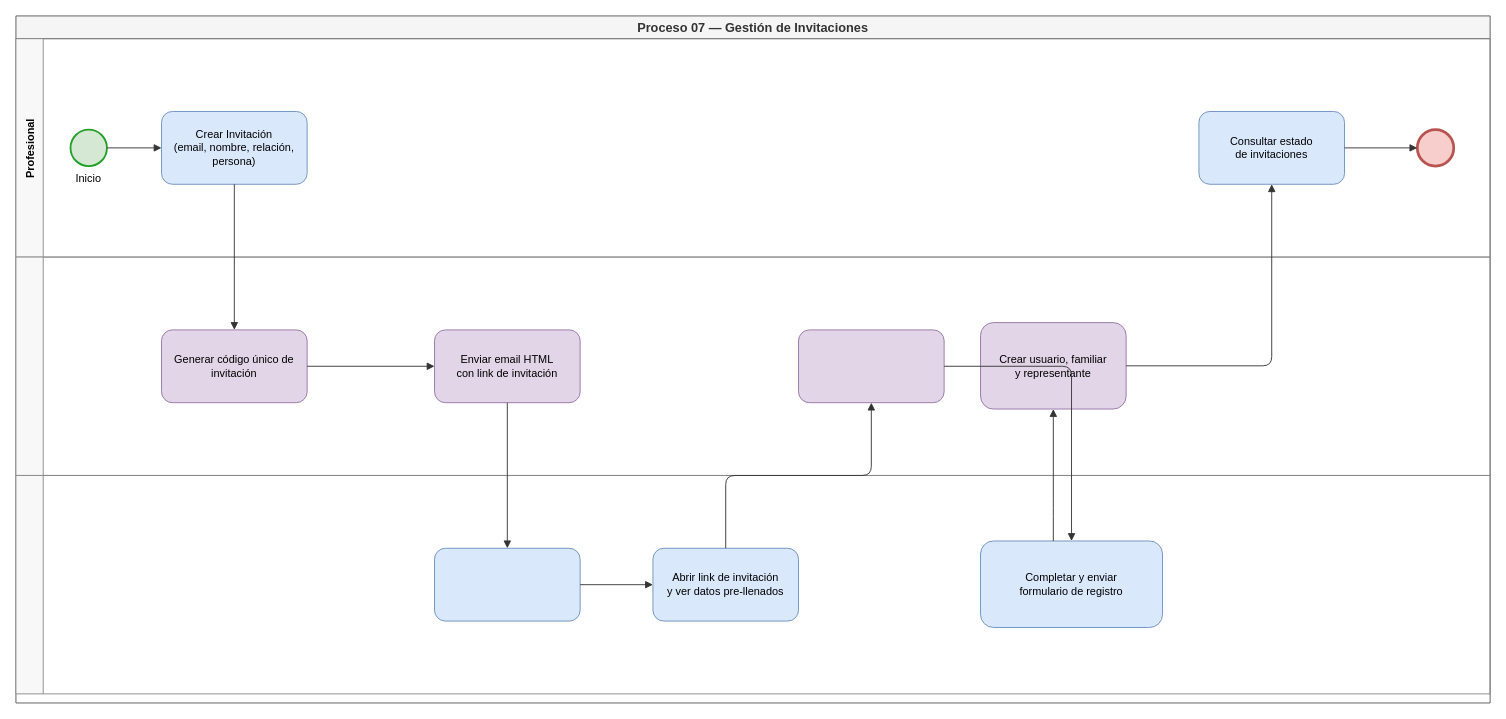
Some shapes in this 1506 by 719 pixel diagram are drawn without their labels. Each missing label, with the box of its shape:
Familiar (nuevo usuario): (15, 475, 1490, 694)
Familiar registrado: (1416, 128, 1455, 167)
Recibir email con link: (434, 547, 580, 621)
Sistema / Email SMTP: (15, 256, 1490, 475)
Validar código de invitación: (798, 329, 944, 403)
